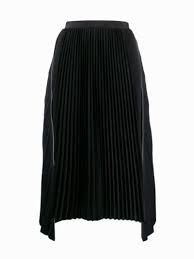S_skirt: (35, 17, 164, 248)
